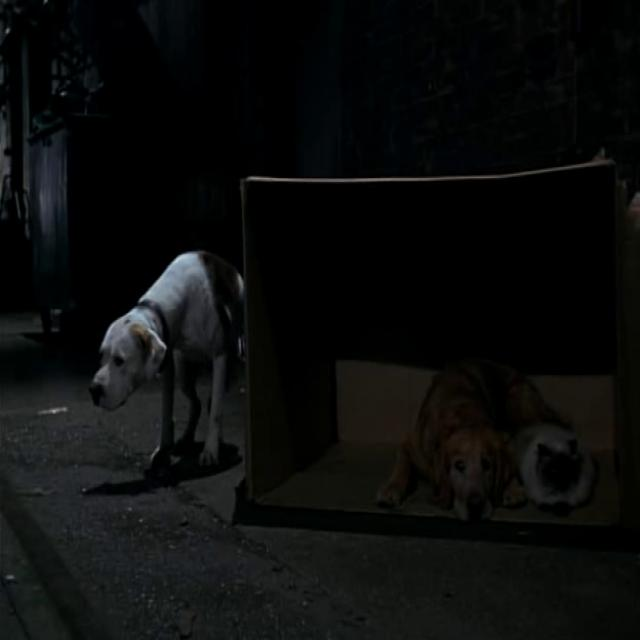Dog: (44, 201, 260, 491)
